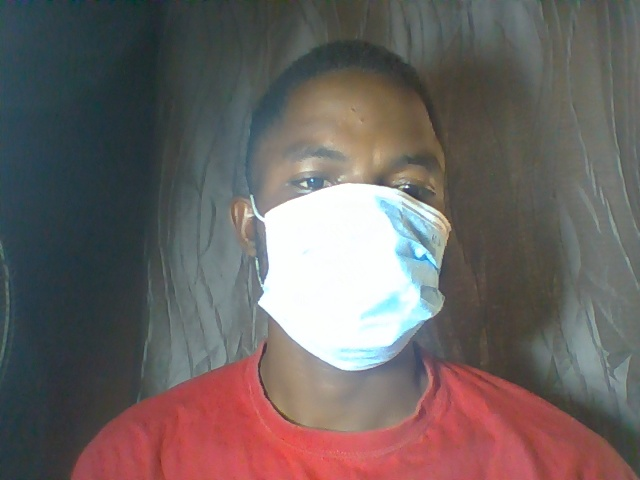MaskOn: (229, 40, 473, 370)
